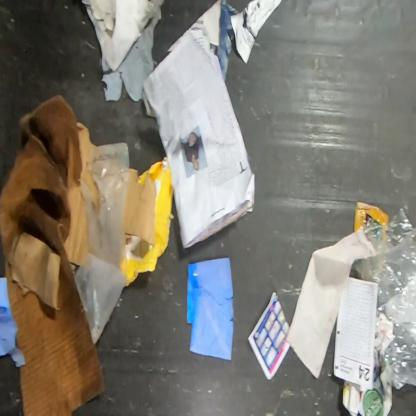cardboard: (0, 95, 106, 416), (123, 168, 157, 246)
soft_plastic: (74, 142, 130, 345), (354, 206, 415, 392)
